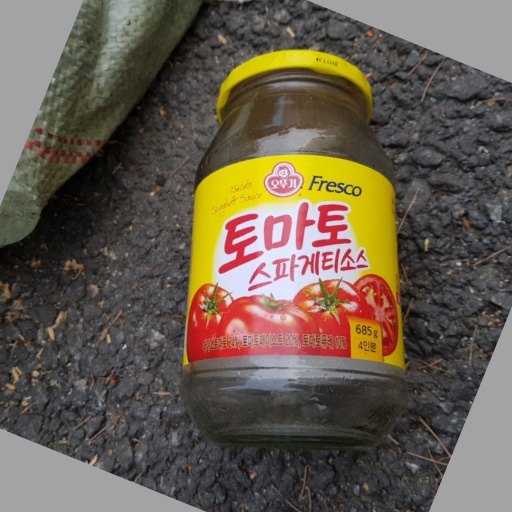Glass_5: (180, 49, 404, 446)
